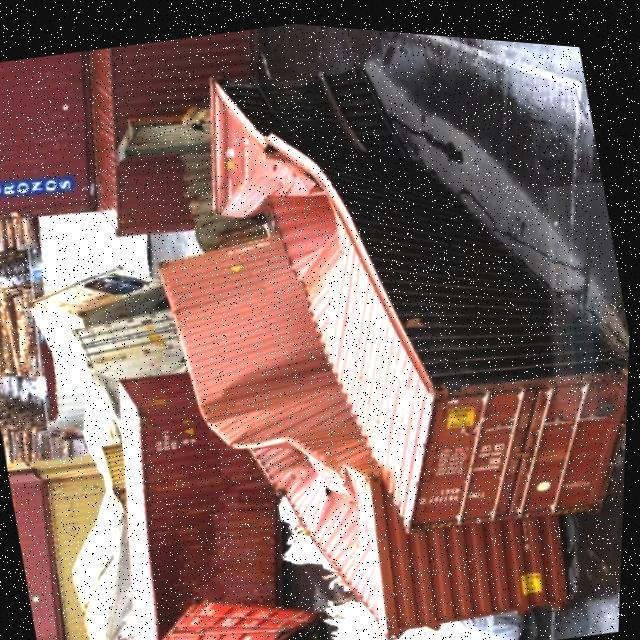dent: (151, 245, 382, 531), (188, 42, 415, 248)
